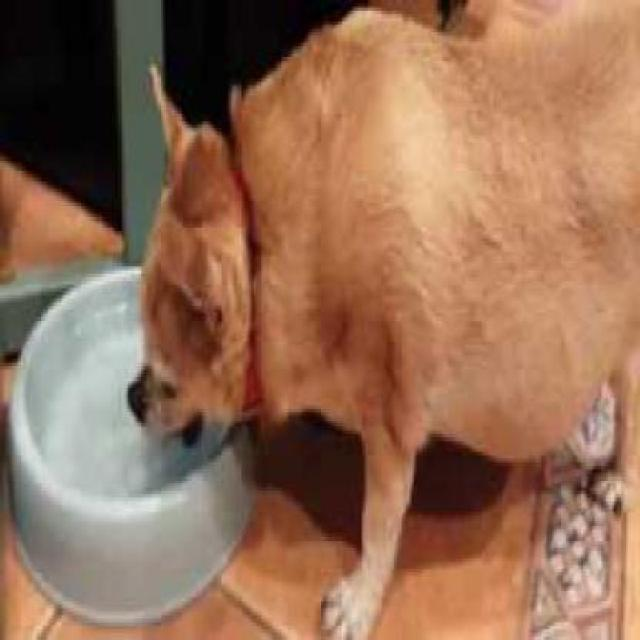Dog: (126, 3, 639, 637)
